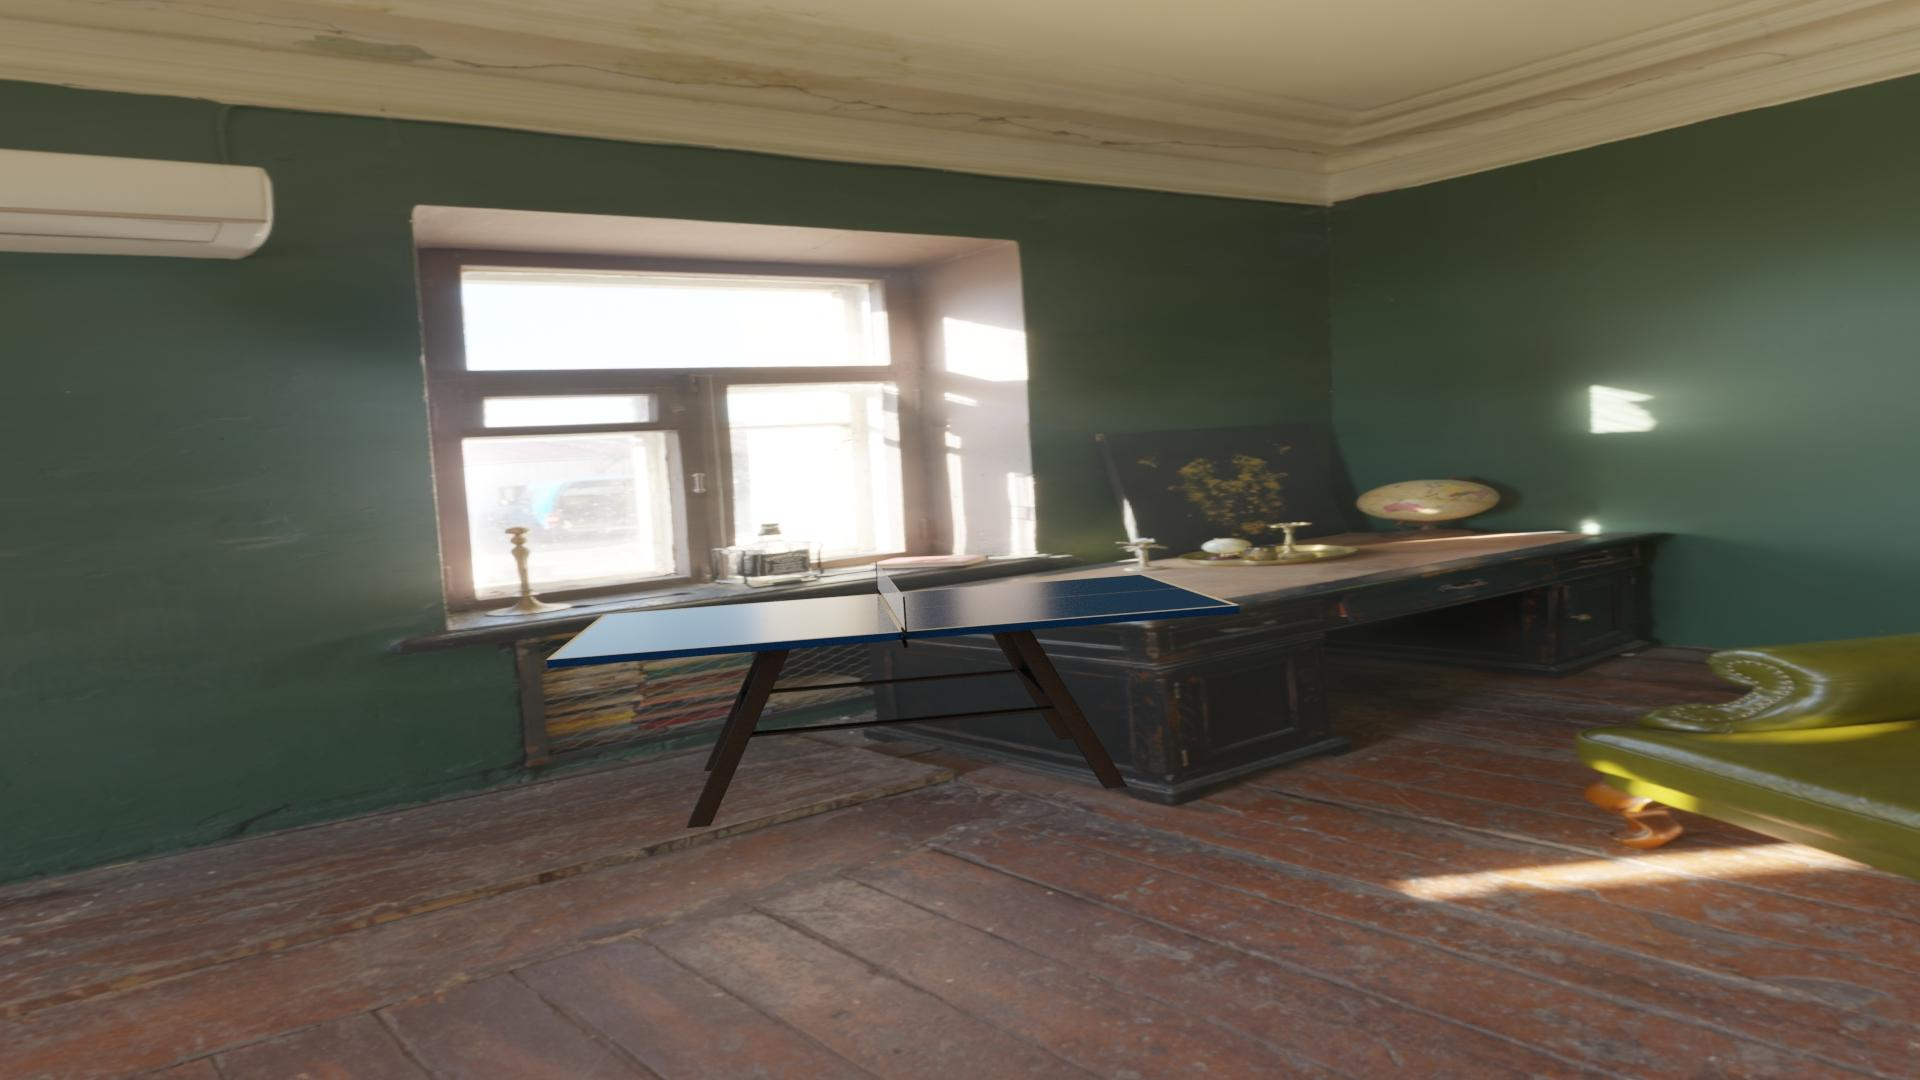table: (553, 575, 1233, 658)
